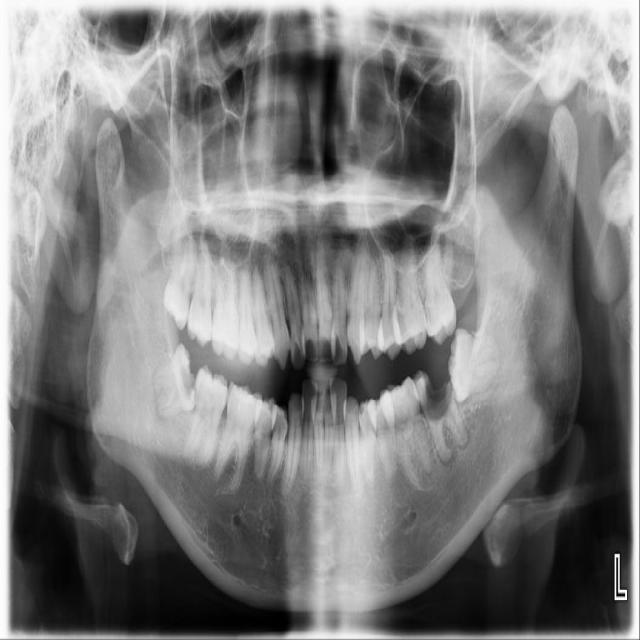Caries: (420, 385, 450, 417)
Periapical lesion: (436, 439, 456, 467), (248, 453, 265, 485), (280, 262, 300, 287), (273, 478, 288, 502), (460, 427, 470, 449), (424, 462, 433, 476)
impacted tooth: (449, 330, 501, 401), (151, 345, 196, 419)
